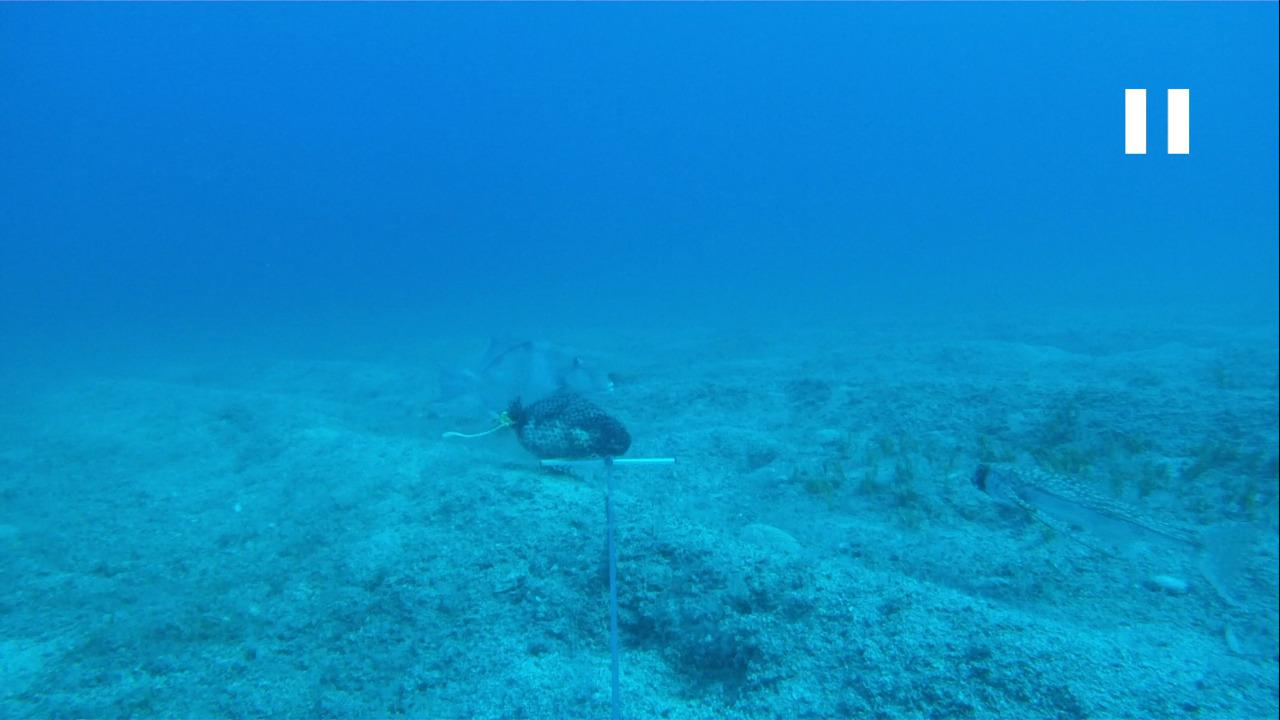balistes: (423, 328, 620, 428)
dactylopterus: (958, 455, 1261, 611)
